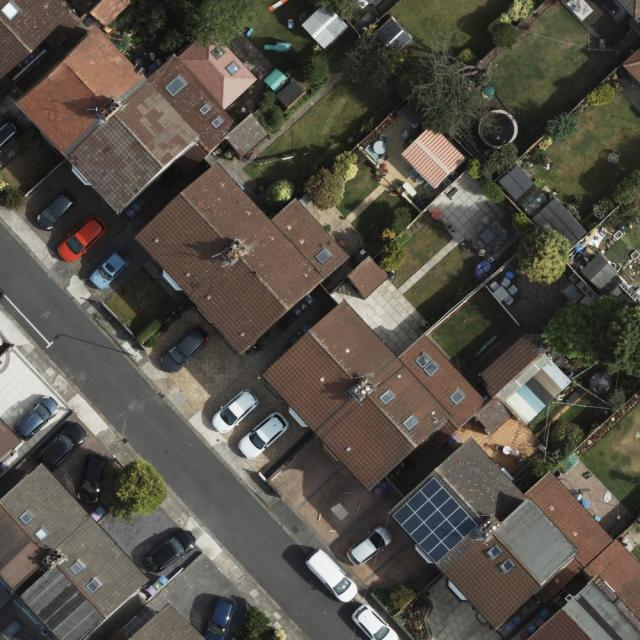roof: (261, 301, 574, 492), (0, 0, 269, 213), (385, 436, 640, 640), (133, 164, 351, 355), (0, 461, 151, 640), (126, 603, 207, 640), (347, 257, 389, 300), (0, 417, 22, 463), (619, 44, 640, 89), (619, 0, 640, 23)
skylight: (414, 351, 442, 378), (163, 72, 189, 99), (0, 1, 21, 22), (84, 575, 104, 596), (316, 245, 334, 265), (486, 543, 505, 561), (378, 387, 398, 404), (401, 414, 422, 430), (69, 559, 87, 577), (195, 99, 214, 116), (32, 525, 49, 542), (223, 60, 241, 76), (18, 511, 34, 527), (210, 45, 226, 61), (450, 387, 465, 404), (208, 115, 225, 129), (500, 559, 516, 573)
solar: (390, 476, 480, 565)
